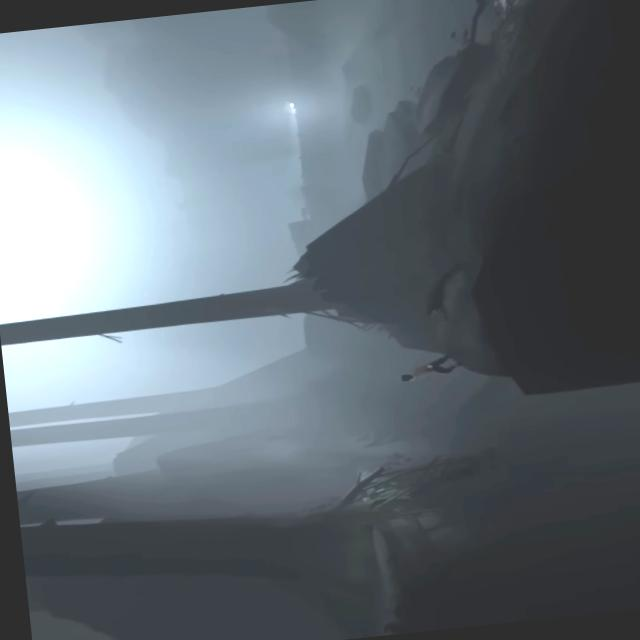boy: (398, 352, 462, 380)
